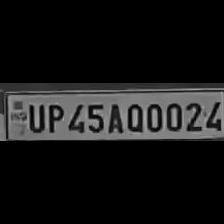0: (144, 101, 162, 133), (163, 100, 181, 132)
2: (183, 99, 201, 133)
4: (202, 97, 222, 131), (65, 100, 84, 134)
5: (84, 100, 104, 134)
A: (104, 101, 124, 135)
P: (43, 100, 62, 134)
Q: (124, 100, 144, 134)
U: (26, 100, 44, 134)
